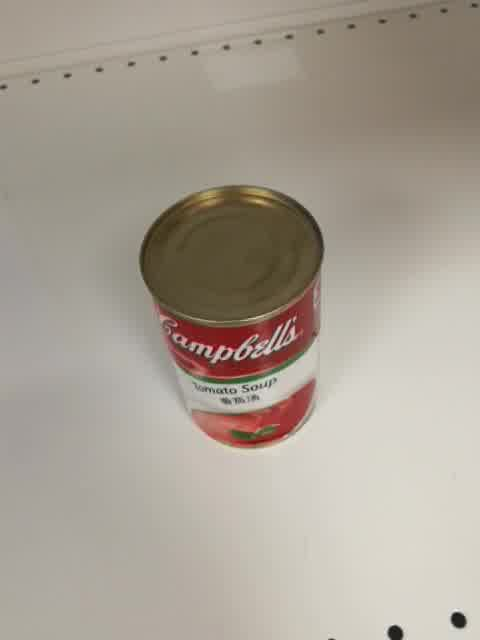tomatosoup: (138, 185, 326, 450)
